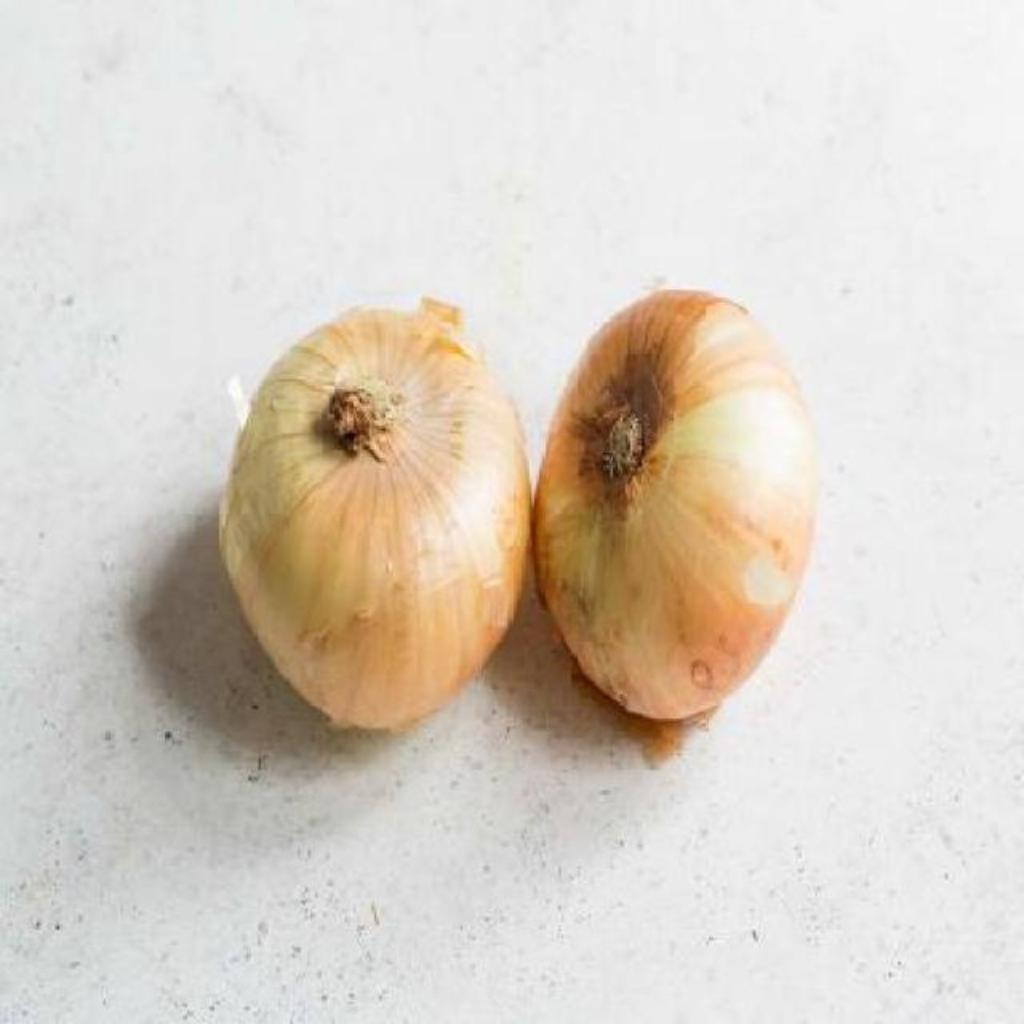Onion: (219, 298, 531, 730), (534, 290, 819, 722)
